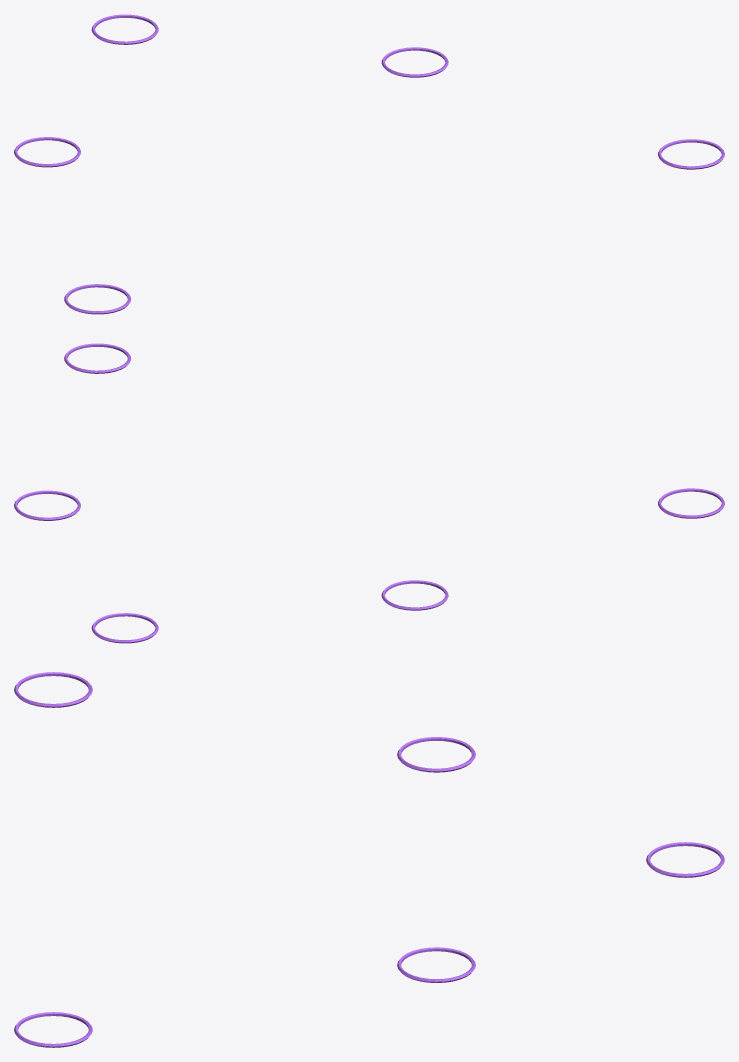
The model's file is EggNestGlow.fbx.
3 views of the same model, one above another, from view 1: azimuth 30°, elevation 25°; view 2: azimuth 150°, elevation 25°; view 3: azimuth 270°, elevation 25° (orthographic). The views are drawn at different scales.
Visible parts, largest first — view 1: NestGlowRing0.001; view 2: NestGlowRing0.001; view 3: NestGlowRing0.001.
Boxes of the visible parts, <box> form: NestGlowRing0.001: <box>14,14,724,314</box>; NestGlowRing0.001: <box>14,343,724,643</box>; NestGlowRing0.001: <box>14,672,724,1047</box>.
Size of the model in its own units: 9224 by 41.85 by 7424.
